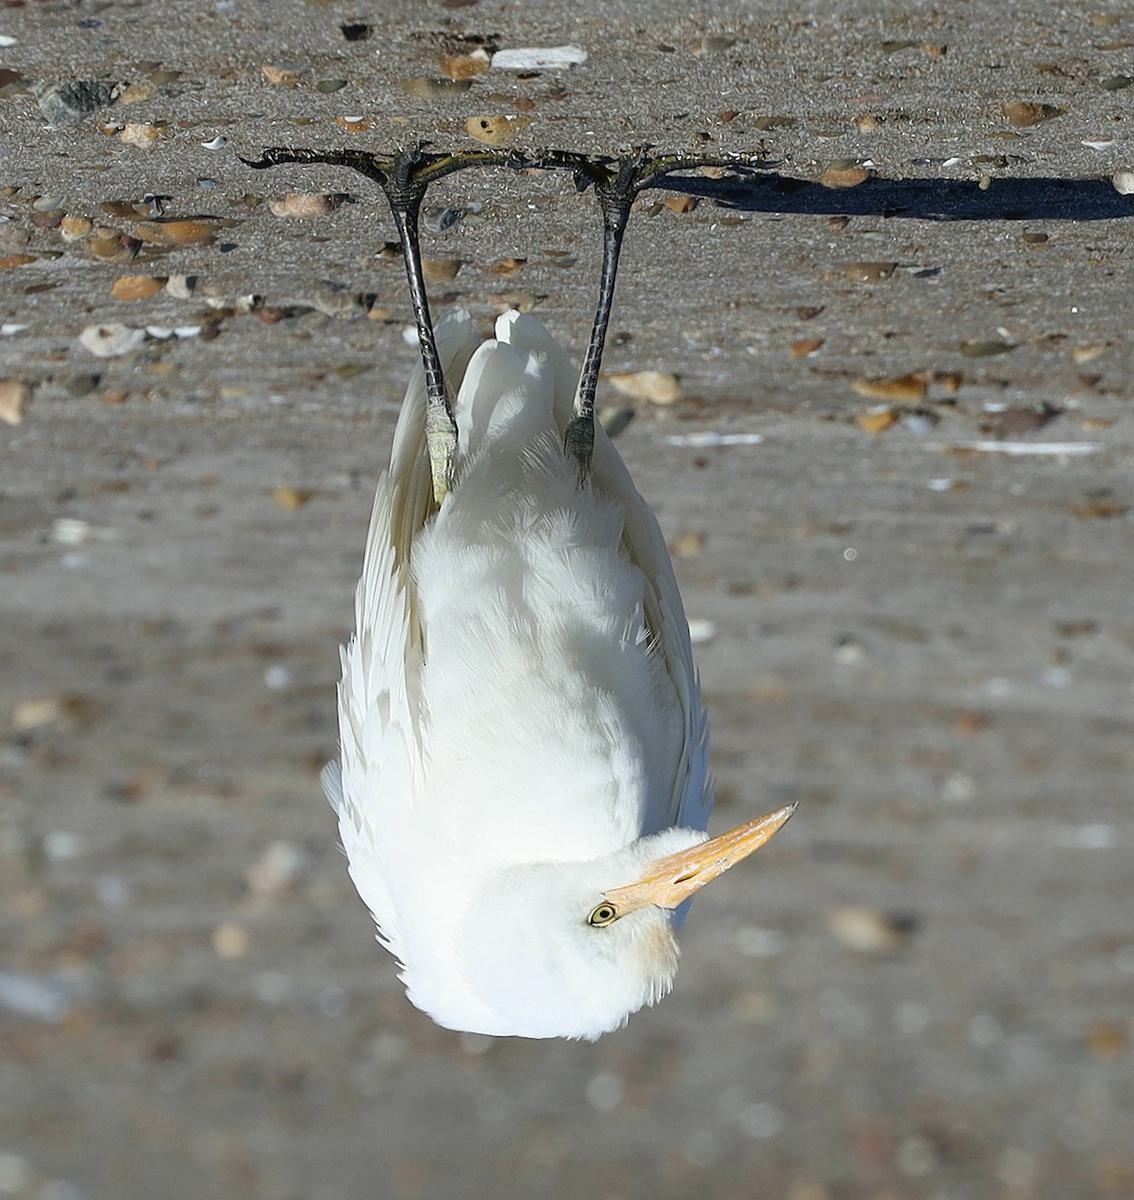egret: (318, 159, 801, 1082)
